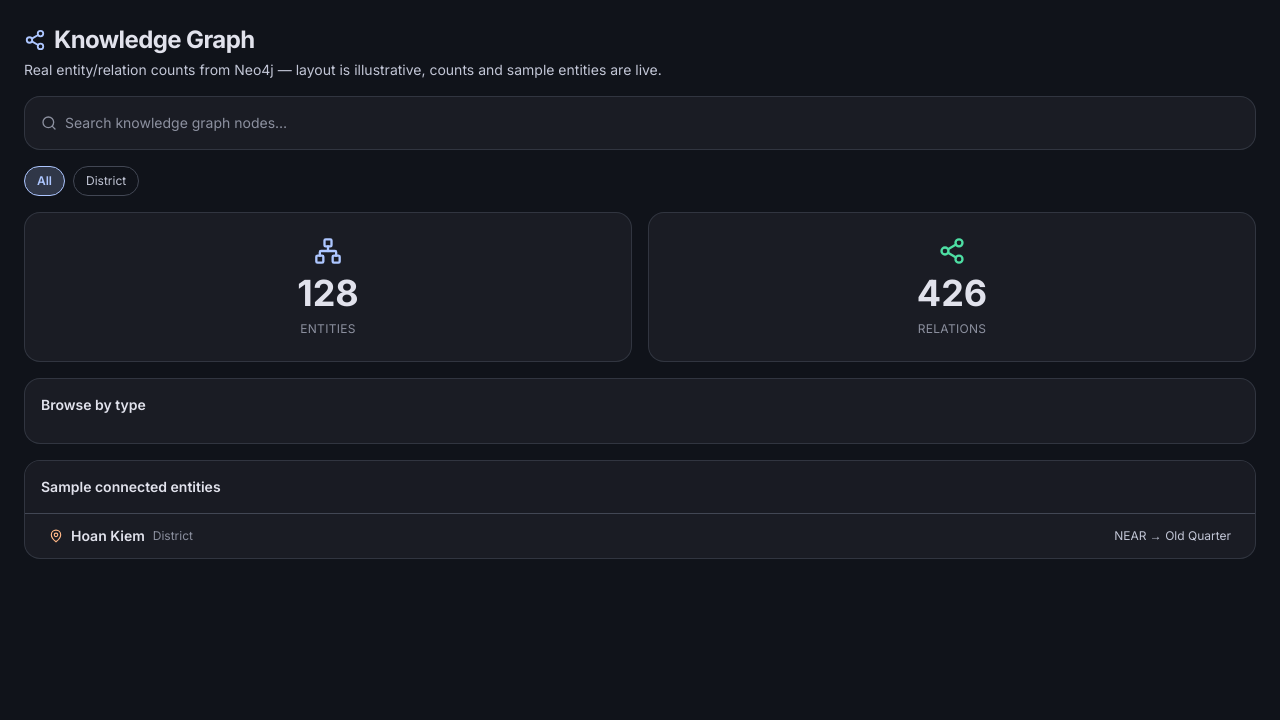
Test: KnowledgeGraphPage › shows an empty state in the entity modal when the drill-down query returns no relations
Expected: the number of buttons with test id "knowledge-sample-row" is 1, x1=25 y1=514 x2=1255 y2=558
Step 1. Click the text "Hoan Kiem" → click(108, 536), box x1=71 y1=526 x2=145 y2=546
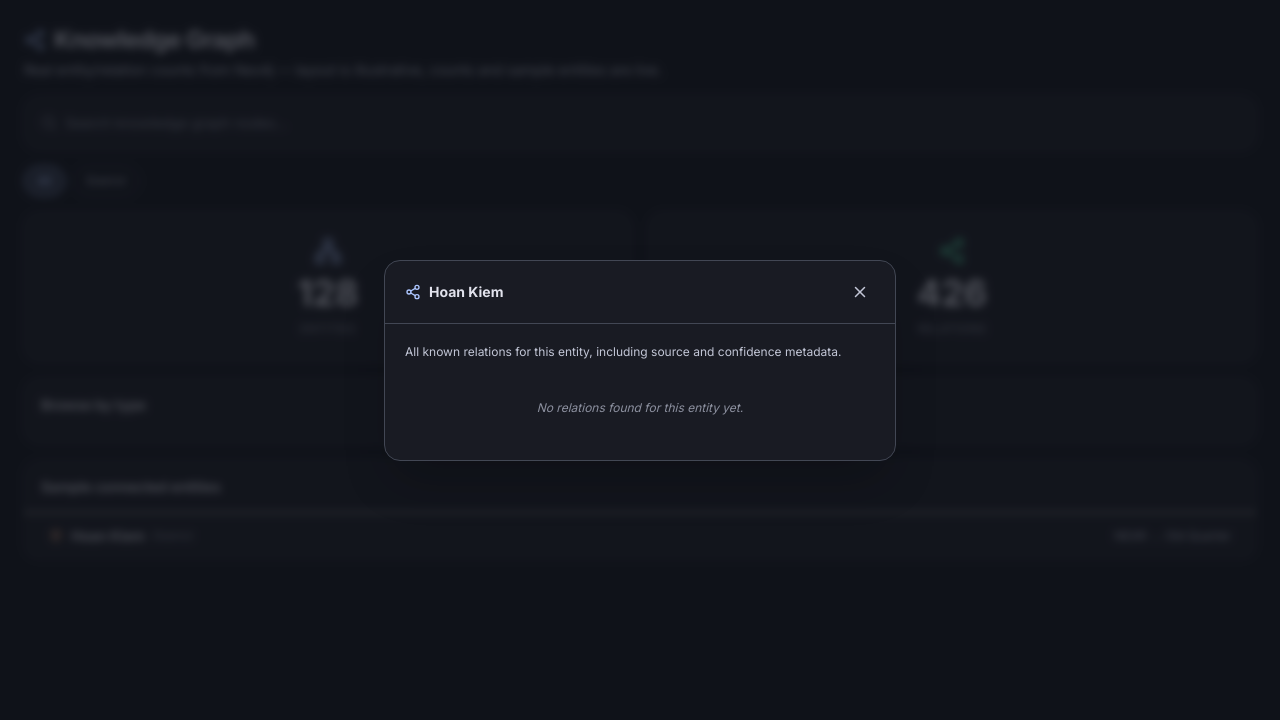
Expected: the text "No relations found for this entity yet." is shown, x1=537 y1=400 x2=743 y2=414
